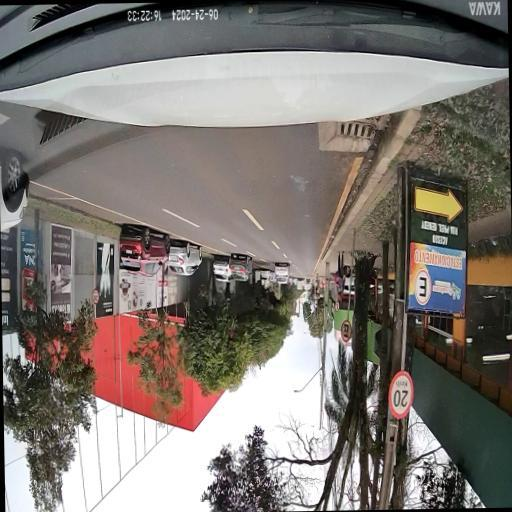R-19: (387, 370, 414, 418), (92, 288, 98, 302)
R-6a: (340, 319, 351, 341), (334, 300, 338, 310)
